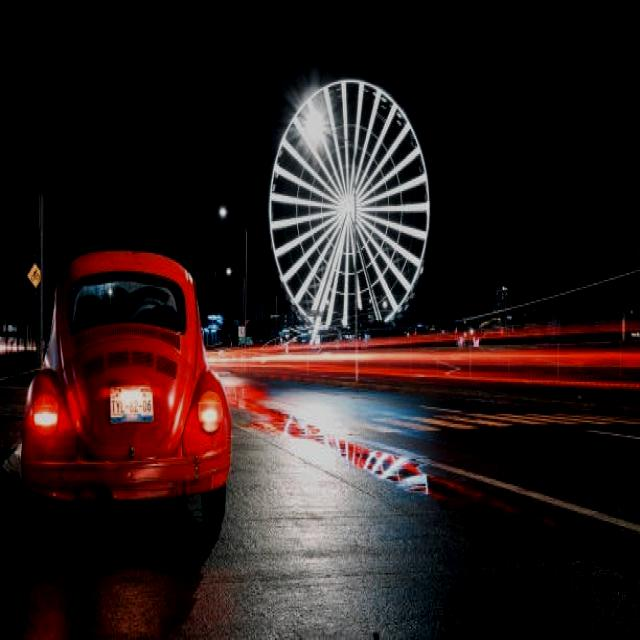car: (19, 247, 228, 529)
